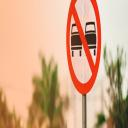NoUltrapassar: (66, 0, 101, 96)
